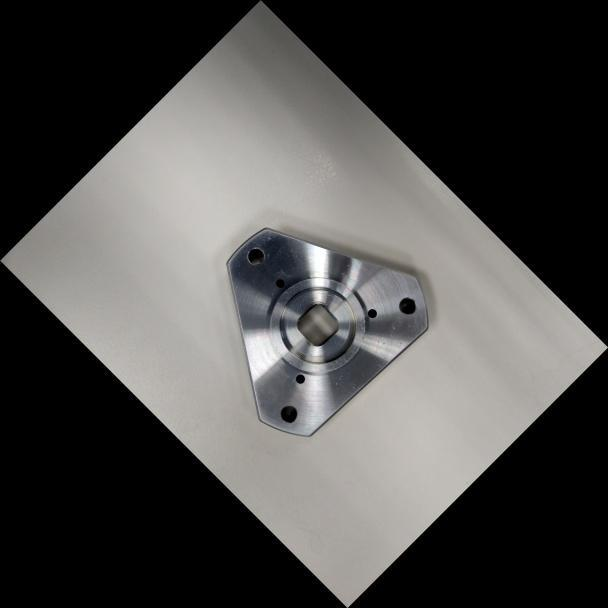hole: (241, 241, 271, 271), (393, 291, 422, 320), (274, 400, 303, 428), (272, 275, 288, 292), (364, 305, 380, 321), (291, 371, 307, 387)
